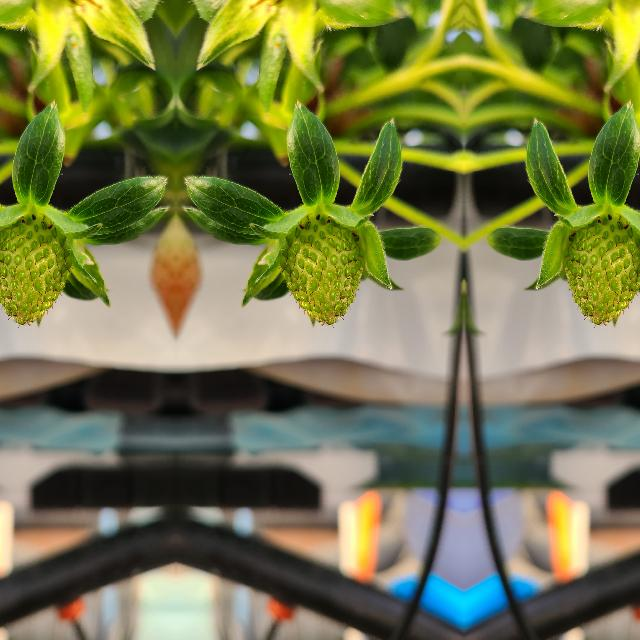Health_25: (278, 215, 362, 328), (563, 214, 640, 327), (0, 214, 72, 327)
